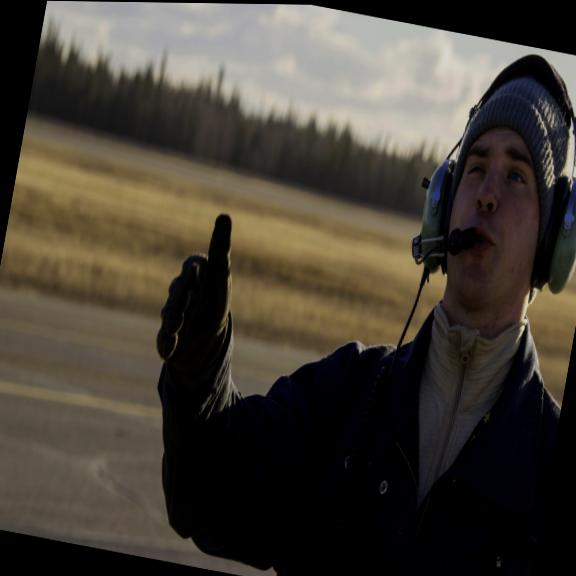no_safety_vest: (257, 300, 570, 576)
